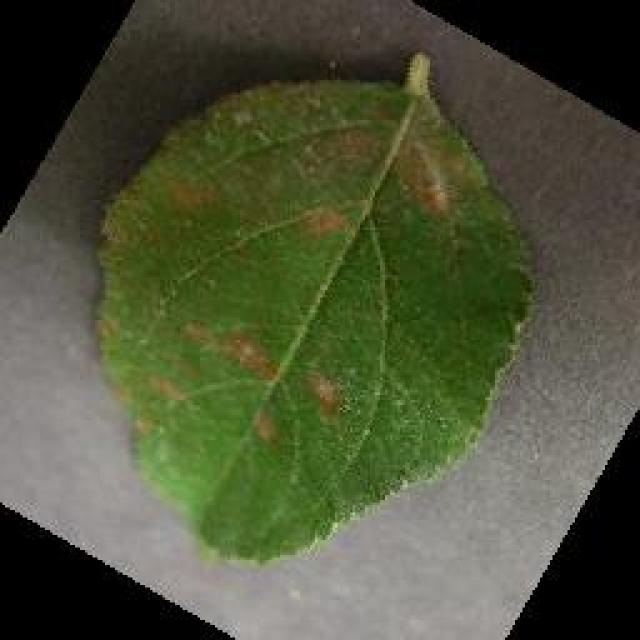apple cedar apple rust: (88, 50, 538, 565)
